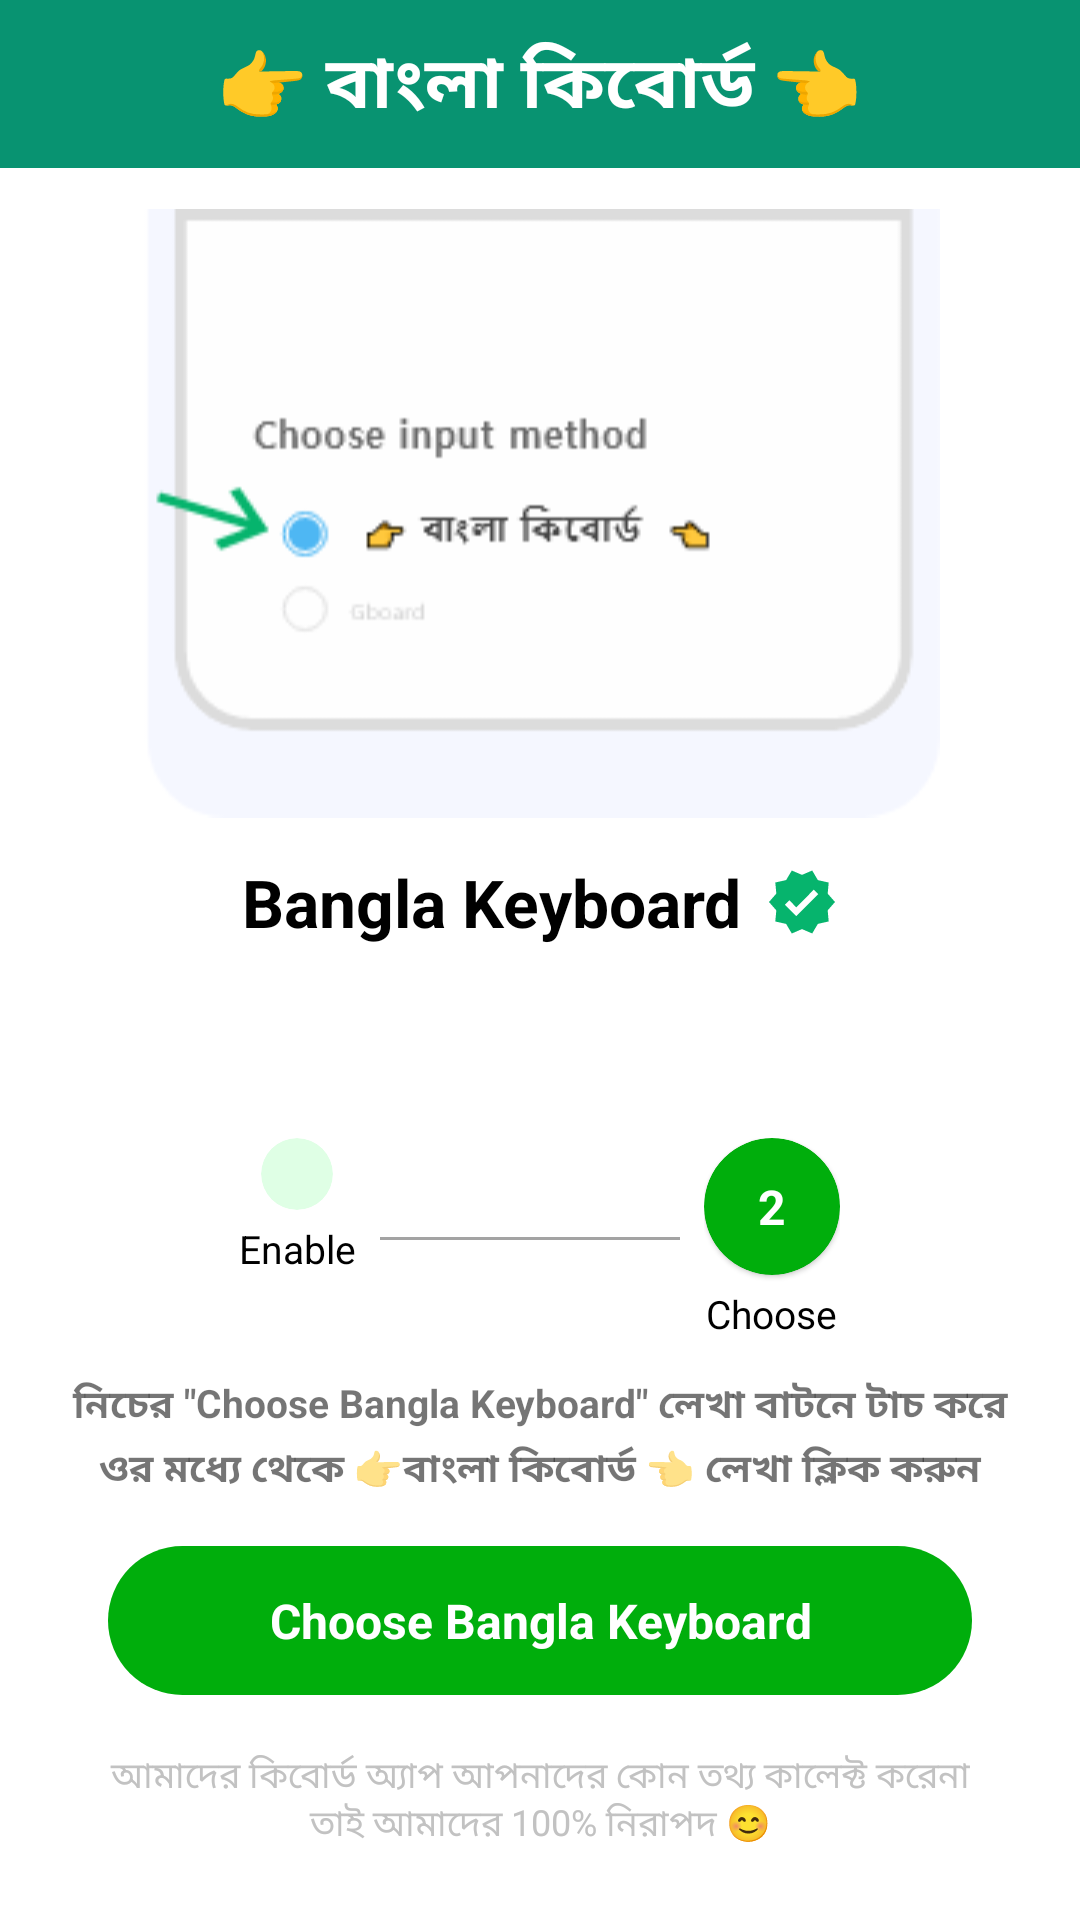

Icon bounding boxes for this 1080×1920 phone screenshot, format box=[x1, y1, x2, y2]:
verified: box=[769, 870, 835, 934]
